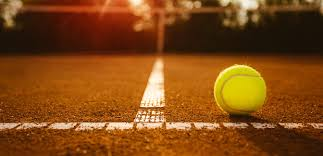tennis_ball: (213, 63, 267, 118)
